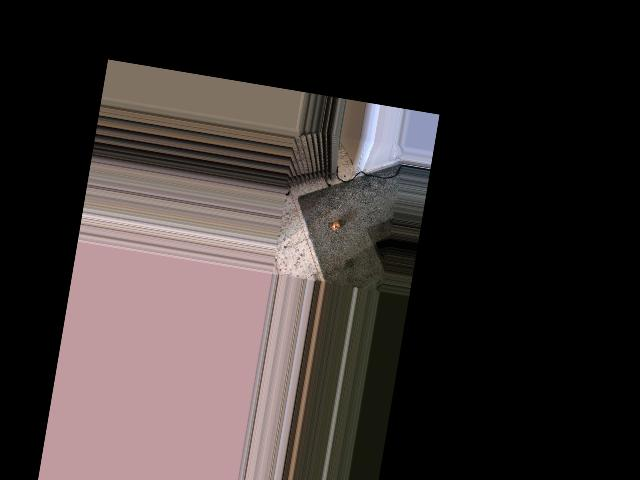onion: (330, 219, 341, 231)
